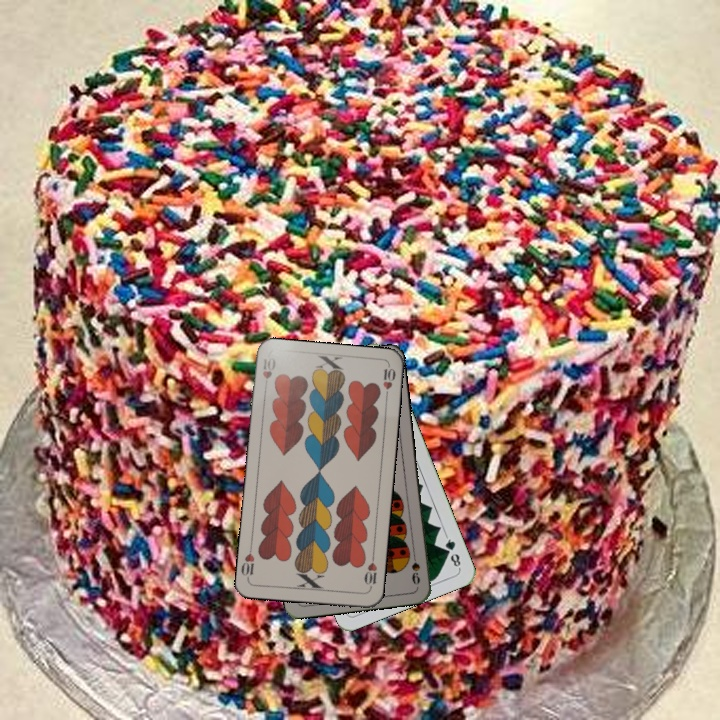G8: (441, 532, 463, 571)
H10: (360, 551, 380, 592), (259, 354, 278, 393)
S9: (408, 547, 423, 588)
